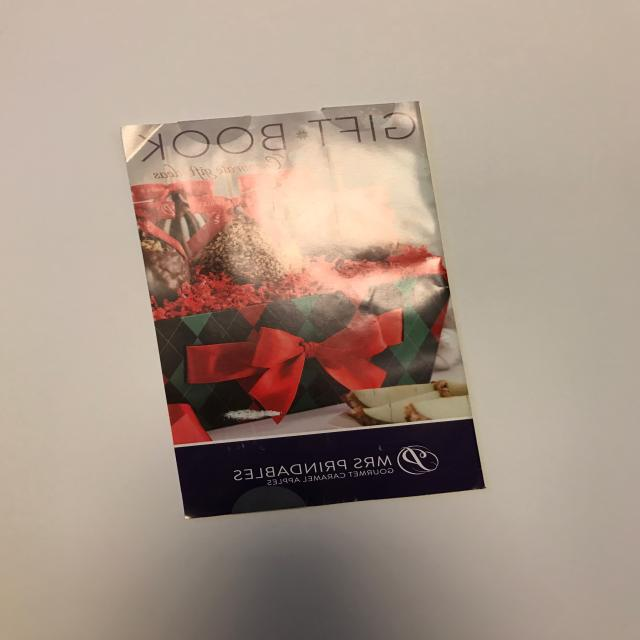paper: (107, 93, 498, 529)
